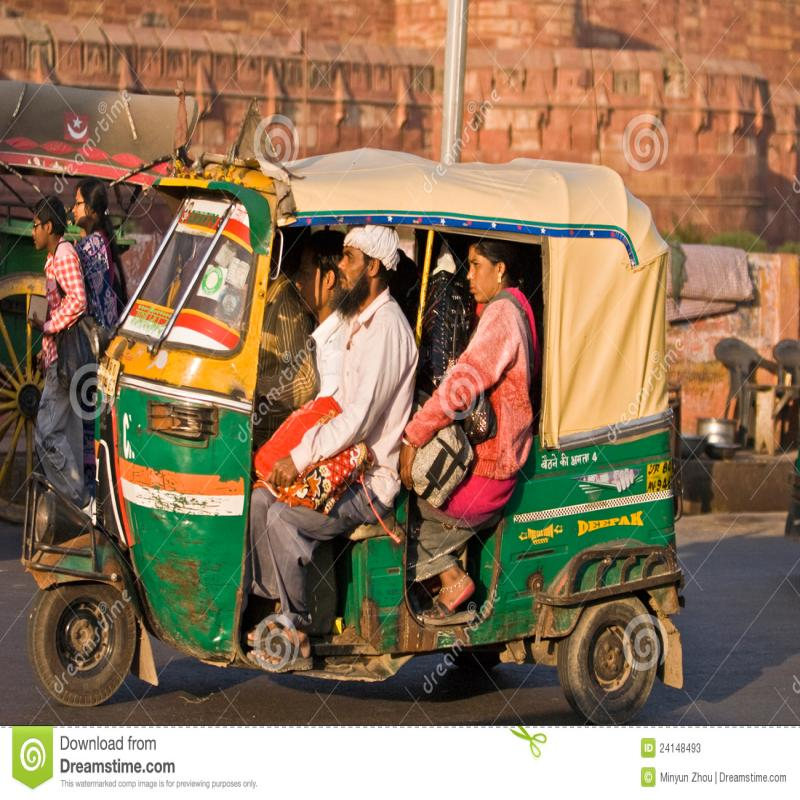bike: (56, 109, 674, 711)
